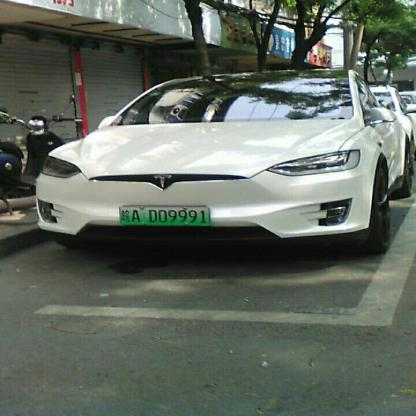lp: (118, 204, 210, 226)
